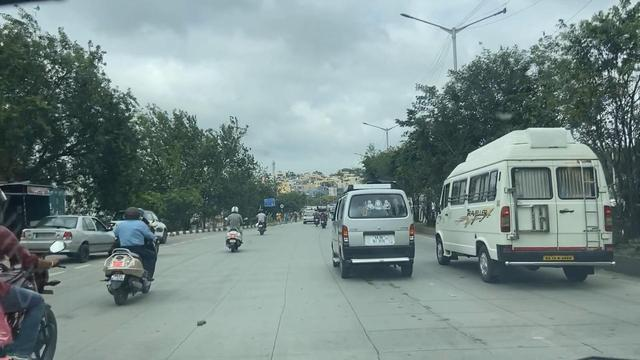HMV: (440, 131, 614, 293)
LMV: (332, 193, 419, 282), (114, 207, 155, 295), (48, 215, 113, 253)
